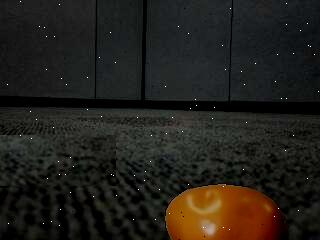Potato: (165, 185, 289, 240)
